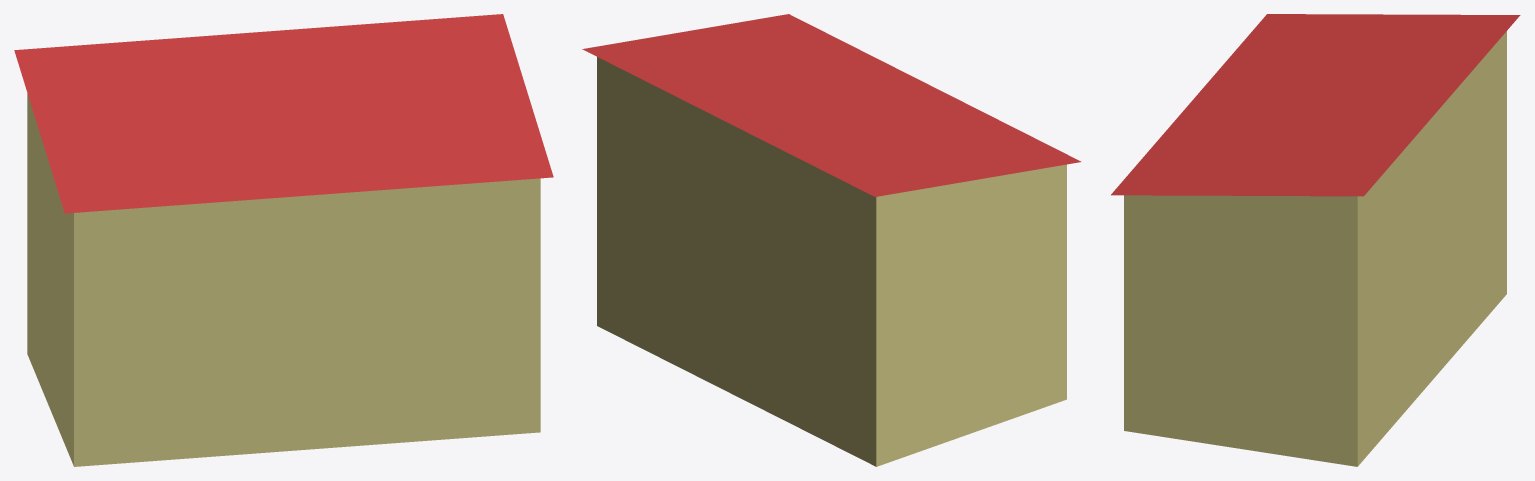
3 renders of one model, left to right at view 1: azimuth 30°, elevation 25°; view 2: azimuth 150°, elevation 25°; view 3: azimuth 270°, elevation 25°, orthographic. The views are drawn at different scales.
Bounding box in the file's own units: 12.38 × 9.73 × 7.23.
